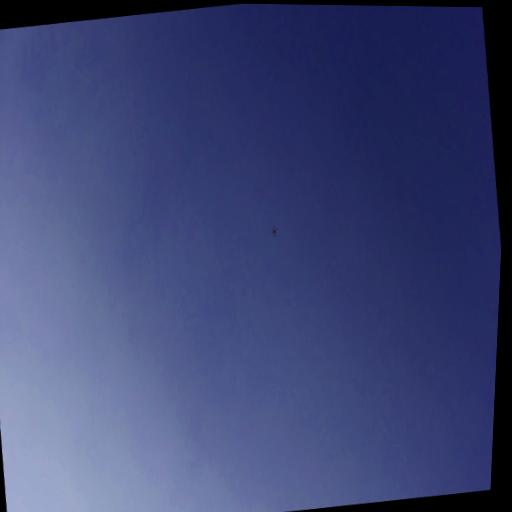drones: (269, 225, 280, 239)
